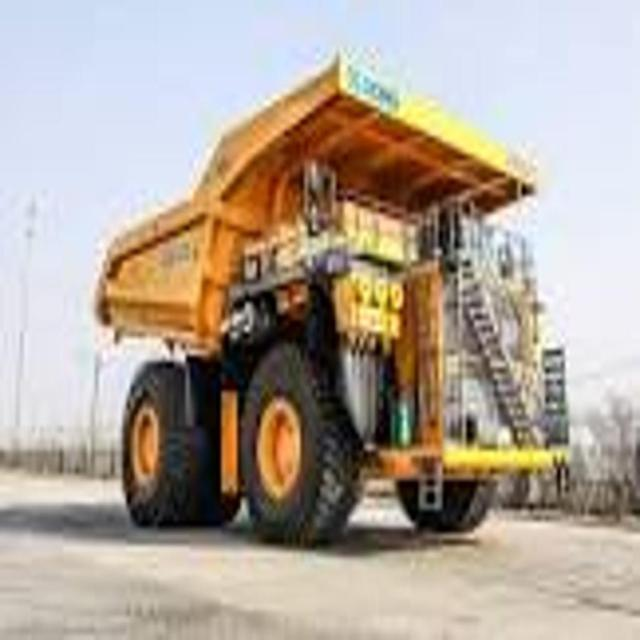dump_truck: (94, 52, 576, 552)
